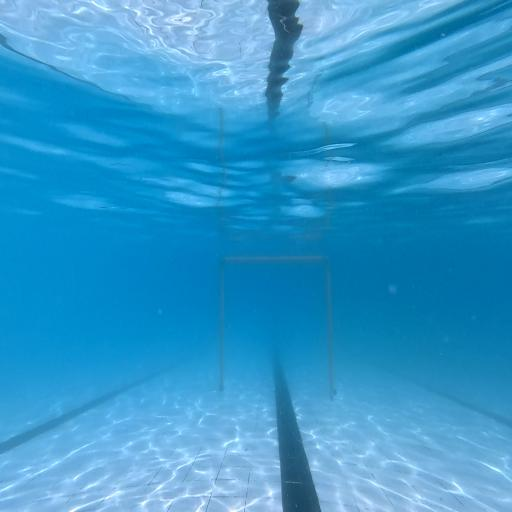gate: (220, 257, 336, 400)
